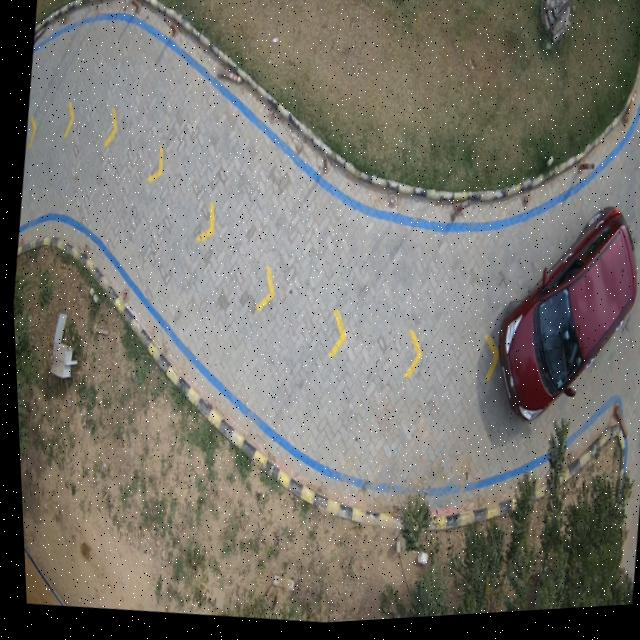car: (491, 214, 635, 426)
